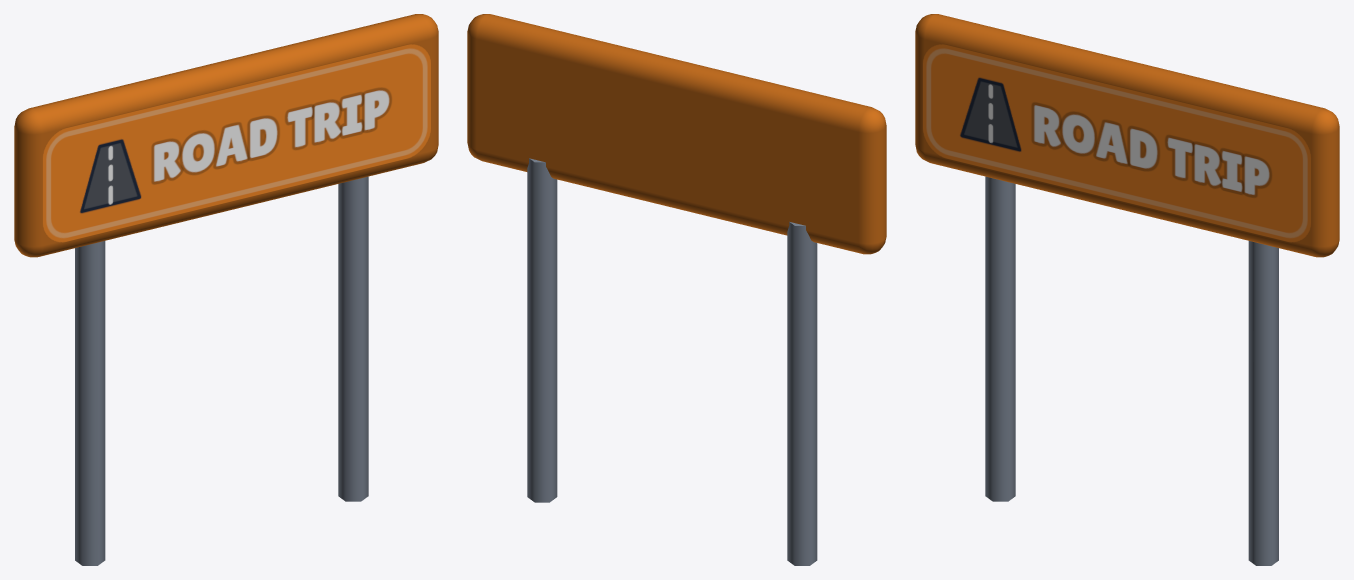
The model's file is travel_sign.glb.
3 renders of one model, left to right at view 1: azimuth 30°, elevation 25°; view 2: azimuth 150°, elevation 25°; view 3: azimuth 330°, elevation 25°, orthographic.
Parts seen in each view (by area): view 1: TravelSign; view 2: TravelSign; view 3: TravelSign.
Boxes of the visible parts, left/top/right/bottom form: TravelSign: left=14, top=14, right=438, bottom=565; TravelSign: left=467, top=14, right=886, bottom=565; TravelSign: left=915, top=14, right=1339, bottom=565.
Size of the model in its own units: 2.55 by 2.73 by 0.24.
3 materials, 1 textured.
